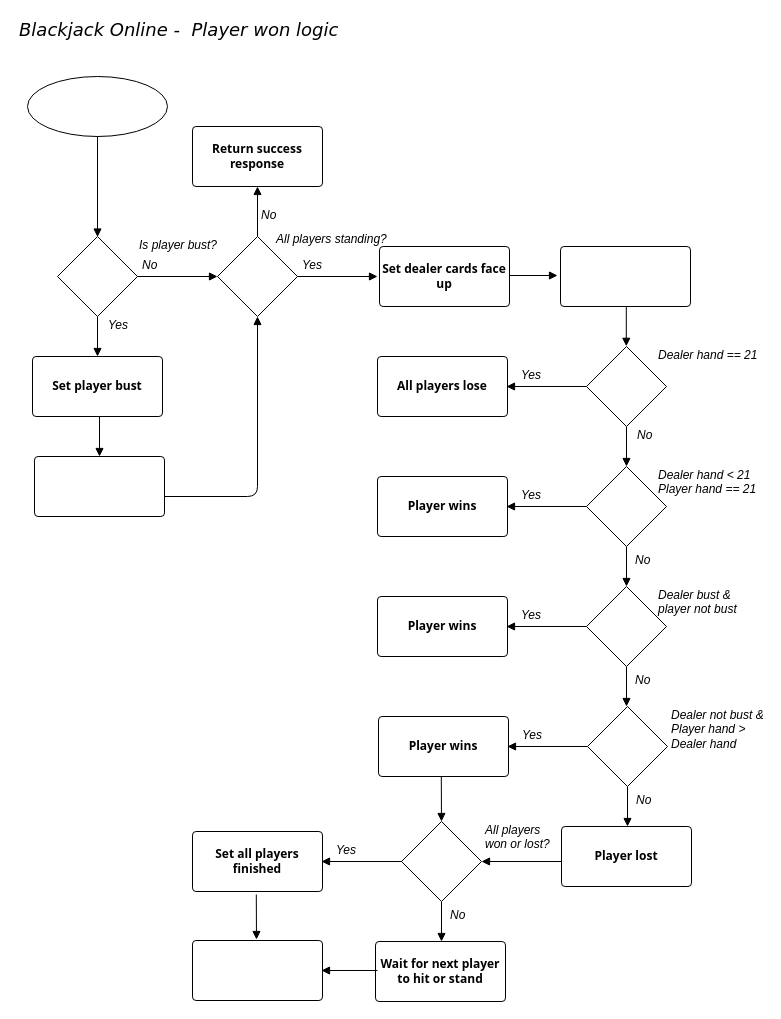
Some shapes in this 781 by 1019 pixel diagram are drawn without their labels. The shapes that lost their labels are listed below. From the top down, each one's box as (x1, y1, x2, y2) in pixels, then its label:
(26, 76, 168, 136): Check if player won
(560, 246, 690, 306): Deal to dealer while hand value <17
(34, 456, 164, 516): Set player stand
(192, 940, 322, 1000): Return successful response
